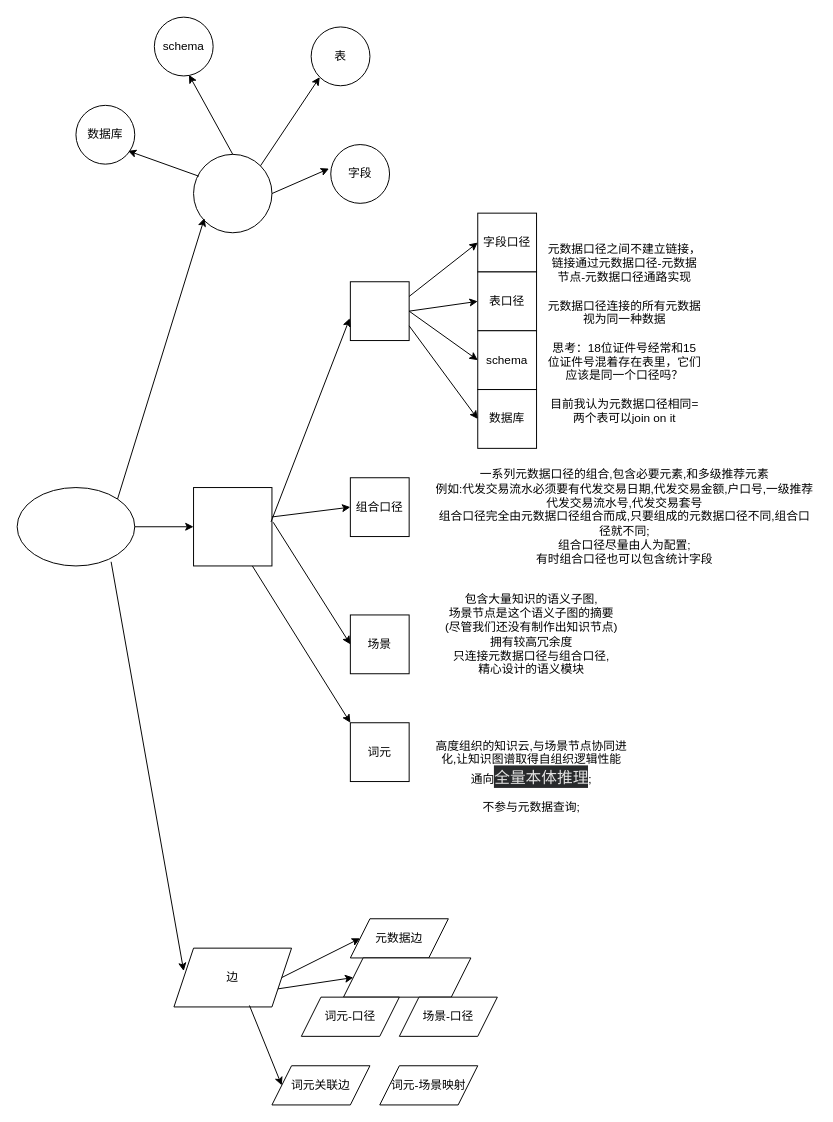
This 833x1122 diagram has some shape labels left out. The centre of each missing label's shape, as x and y in pixels:
元数据-口径映射: the point at 407,977
元数据口径: the point at 379,311
元数据节点: the point at 232,193
图元素类 uid: the point at 75,526
语义节点: the point at 232,526
